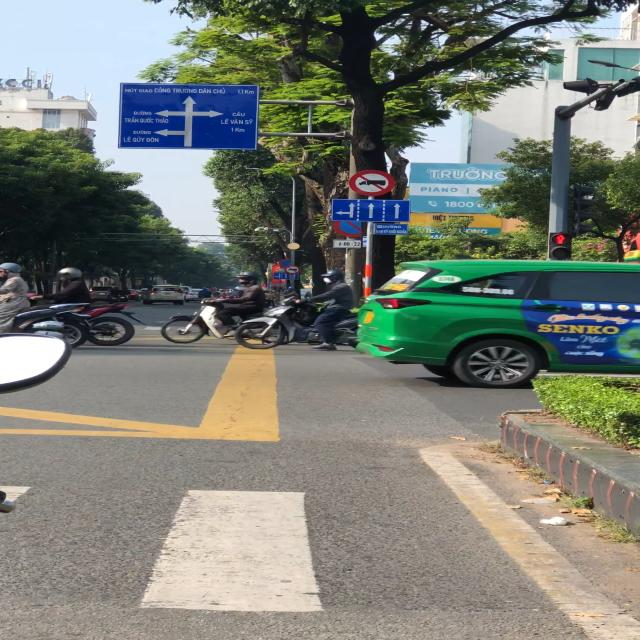Bien bao cam xe so-mi ro-mooc: (347, 167, 398, 197)
